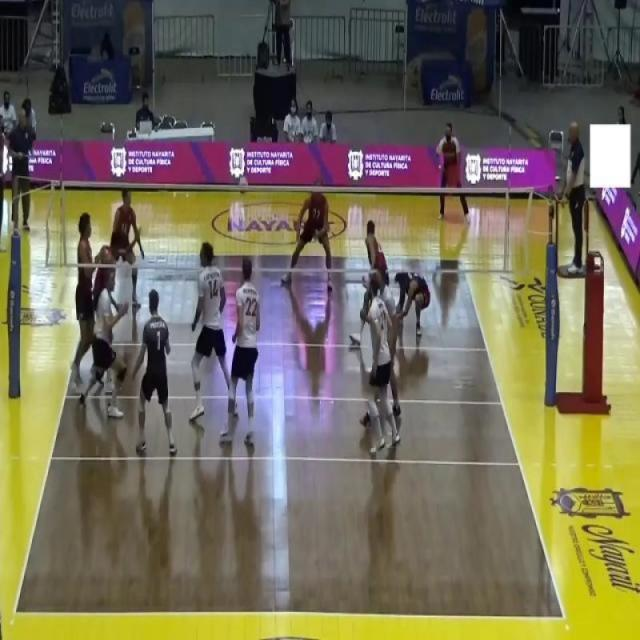volleyball: (238, 176, 249, 195)
